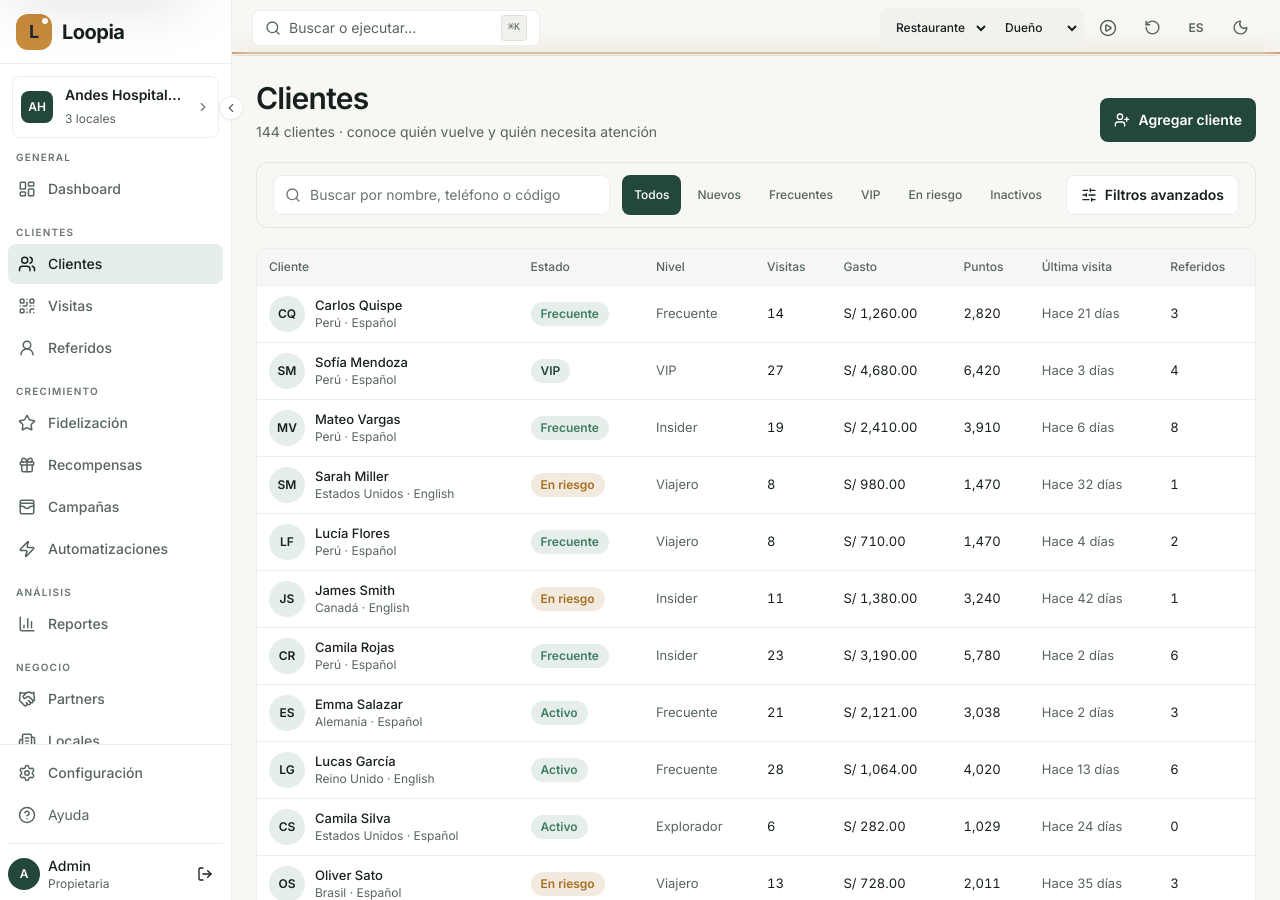
it: customer search filters the directory
Type "Carlos" into the field with placeholder "Buscar por nombre, teléfono o código" at [442, 194], box [273,174,610,214]
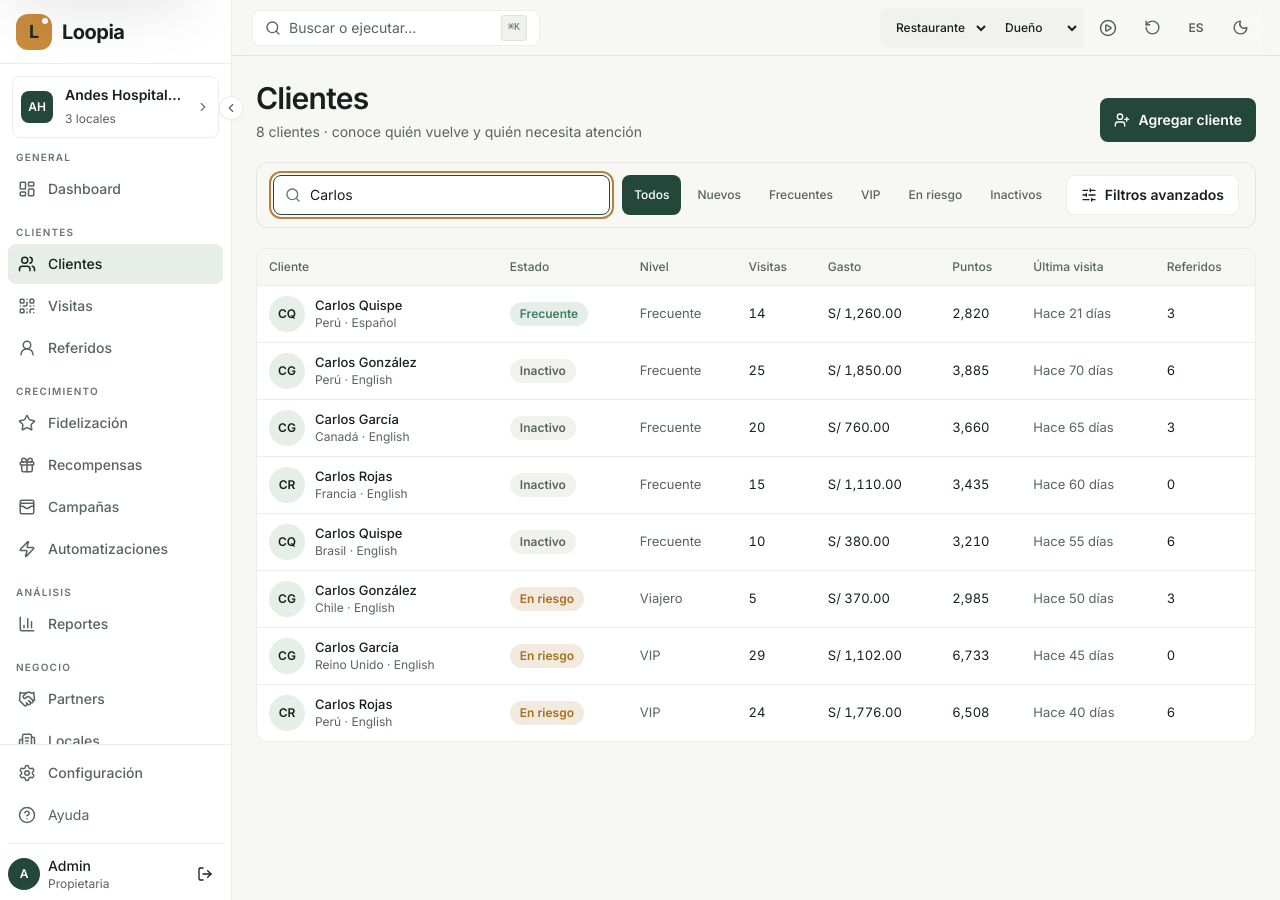
Expected: the text "Carlos Quispe" in the row of "14" is shown, [315,297,402,313]
Replace the text in the field with placeholder "Buscar por nombre, teléfono o código" with "does-not-exist" at [442, 194], box [273,174,610,214]
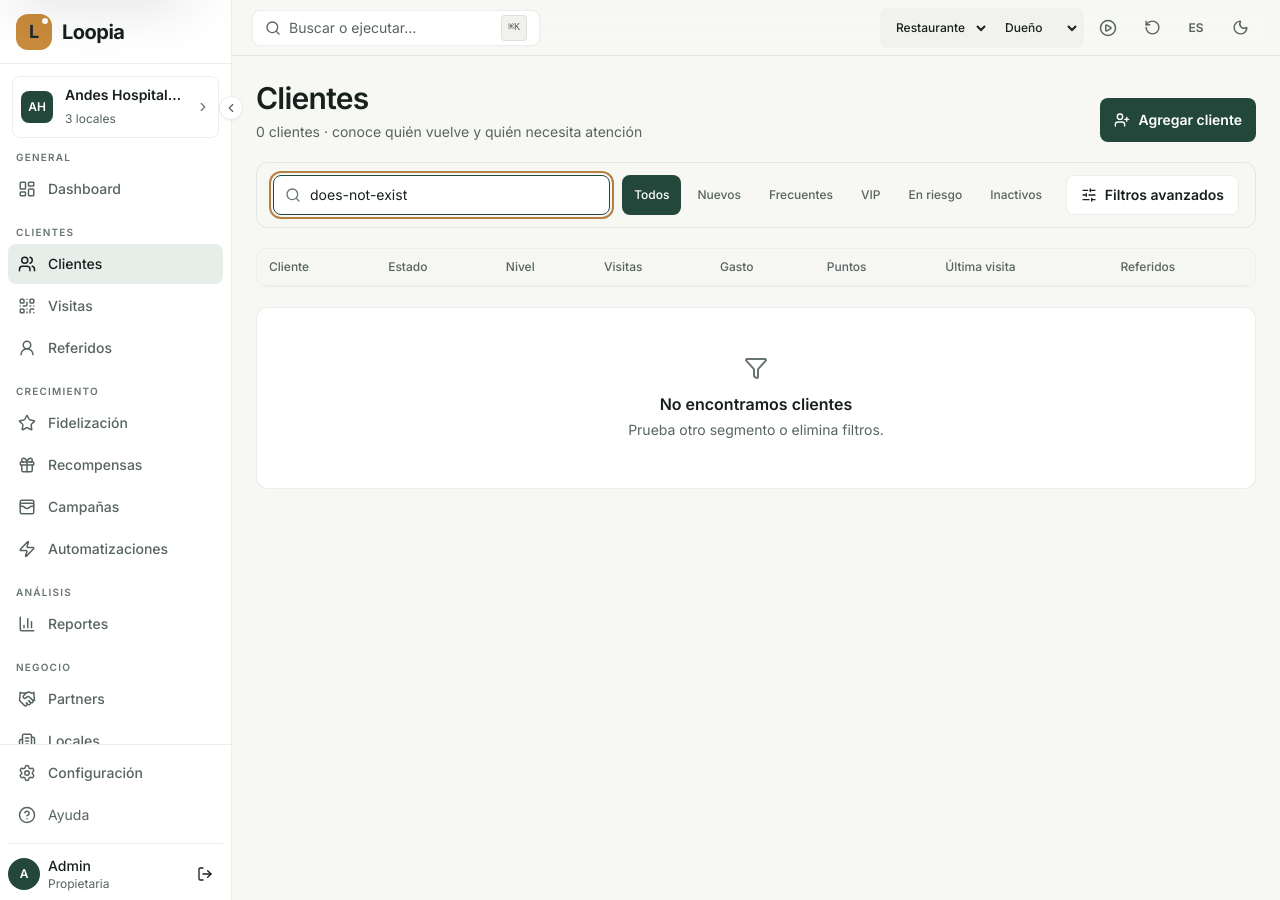
Expected: the heading "No encontramos clientes" is shown, [660,394,852,414]
